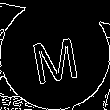M_N: (28, 26, 82, 84)
